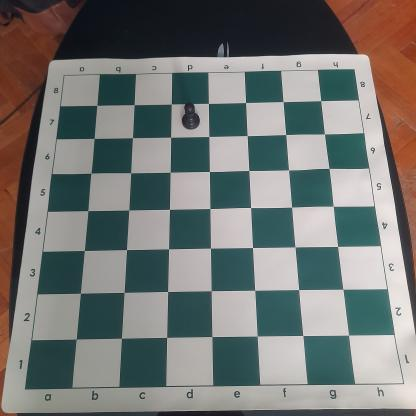black-pawn: (180, 101, 202, 131)
